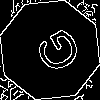G: (25, 25, 84, 81)
